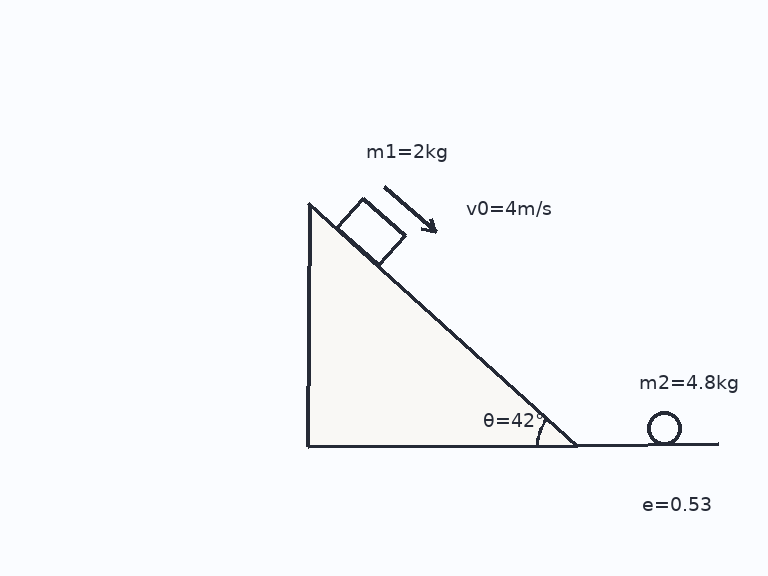ball: (645, 409, 683, 447)
block: (334, 196, 407, 267)
ramp: (306, 201, 579, 447)
